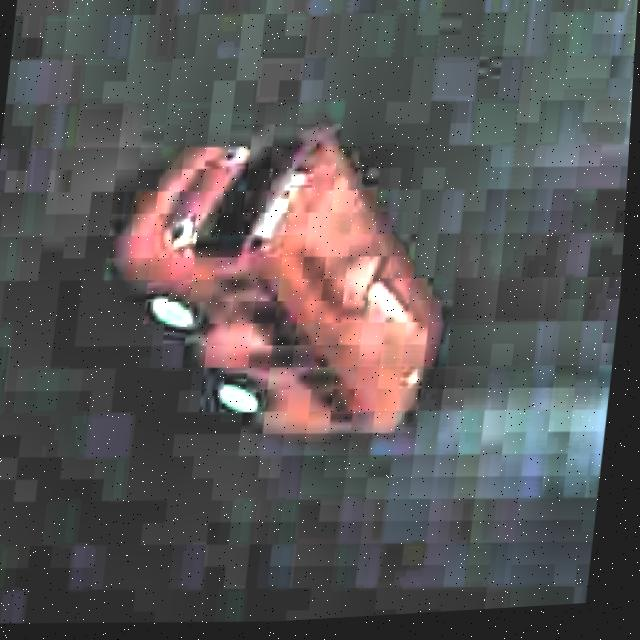bus: (71, 93, 483, 470)
